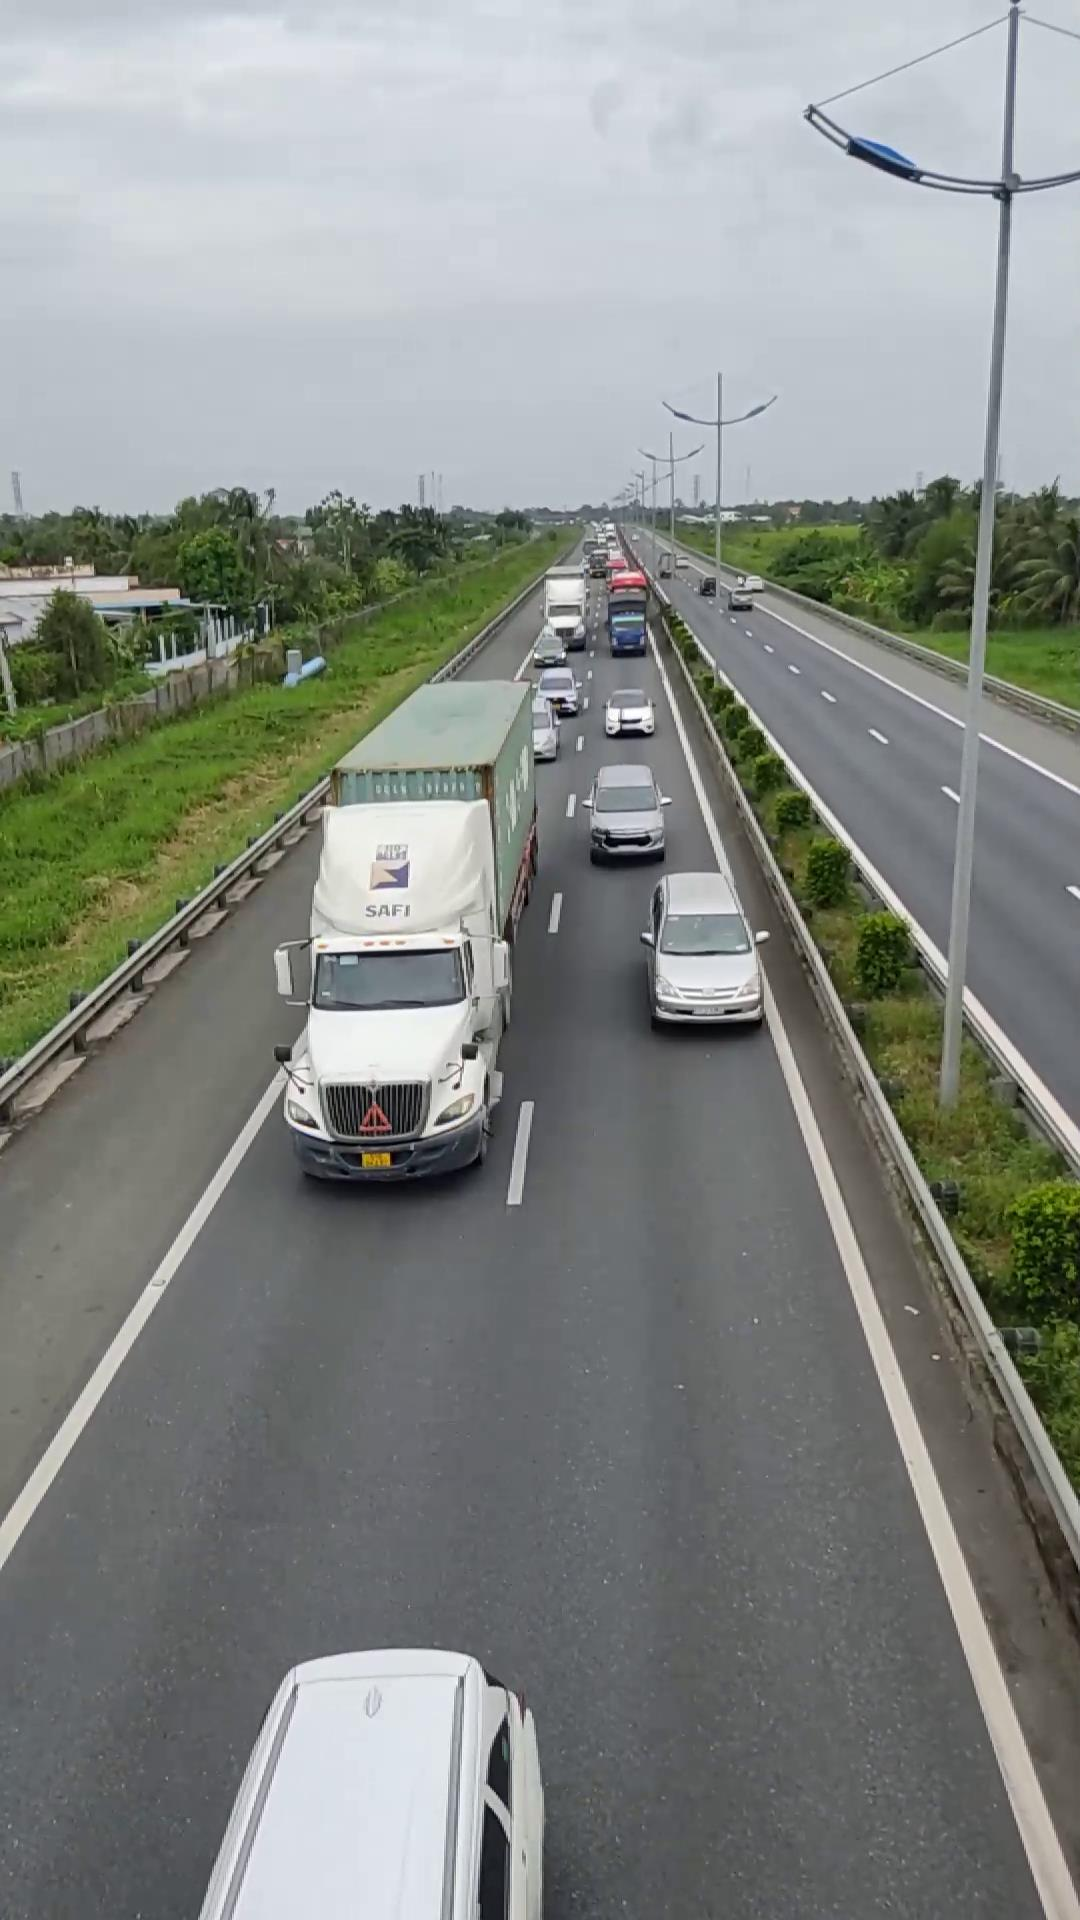car: (190, 1647, 547, 1919), (640, 868, 767, 1030), (582, 764, 669, 862)
container: (278, 673, 537, 1189)
